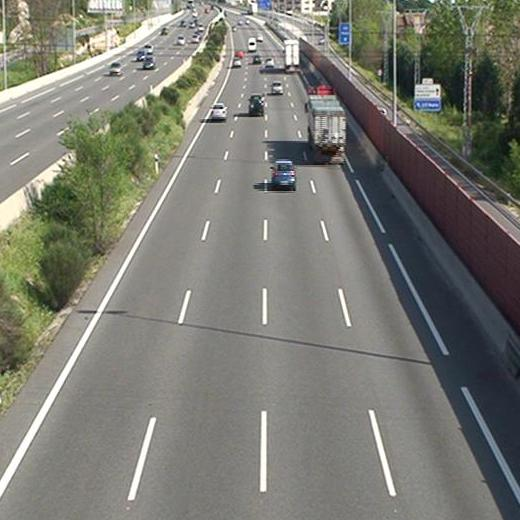car: (271, 160, 295, 186), (249, 94, 265, 113), (210, 103, 226, 119), (271, 81, 284, 94), (231, 58, 240, 66), (265, 58, 273, 67), (253, 54, 261, 62)
truck: (305, 88, 346, 162), (284, 40, 300, 71)
van: (247, 38, 257, 51)
